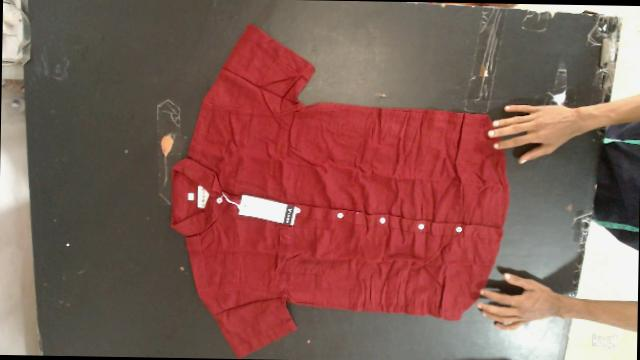new-garment: (171, 24, 509, 356)
